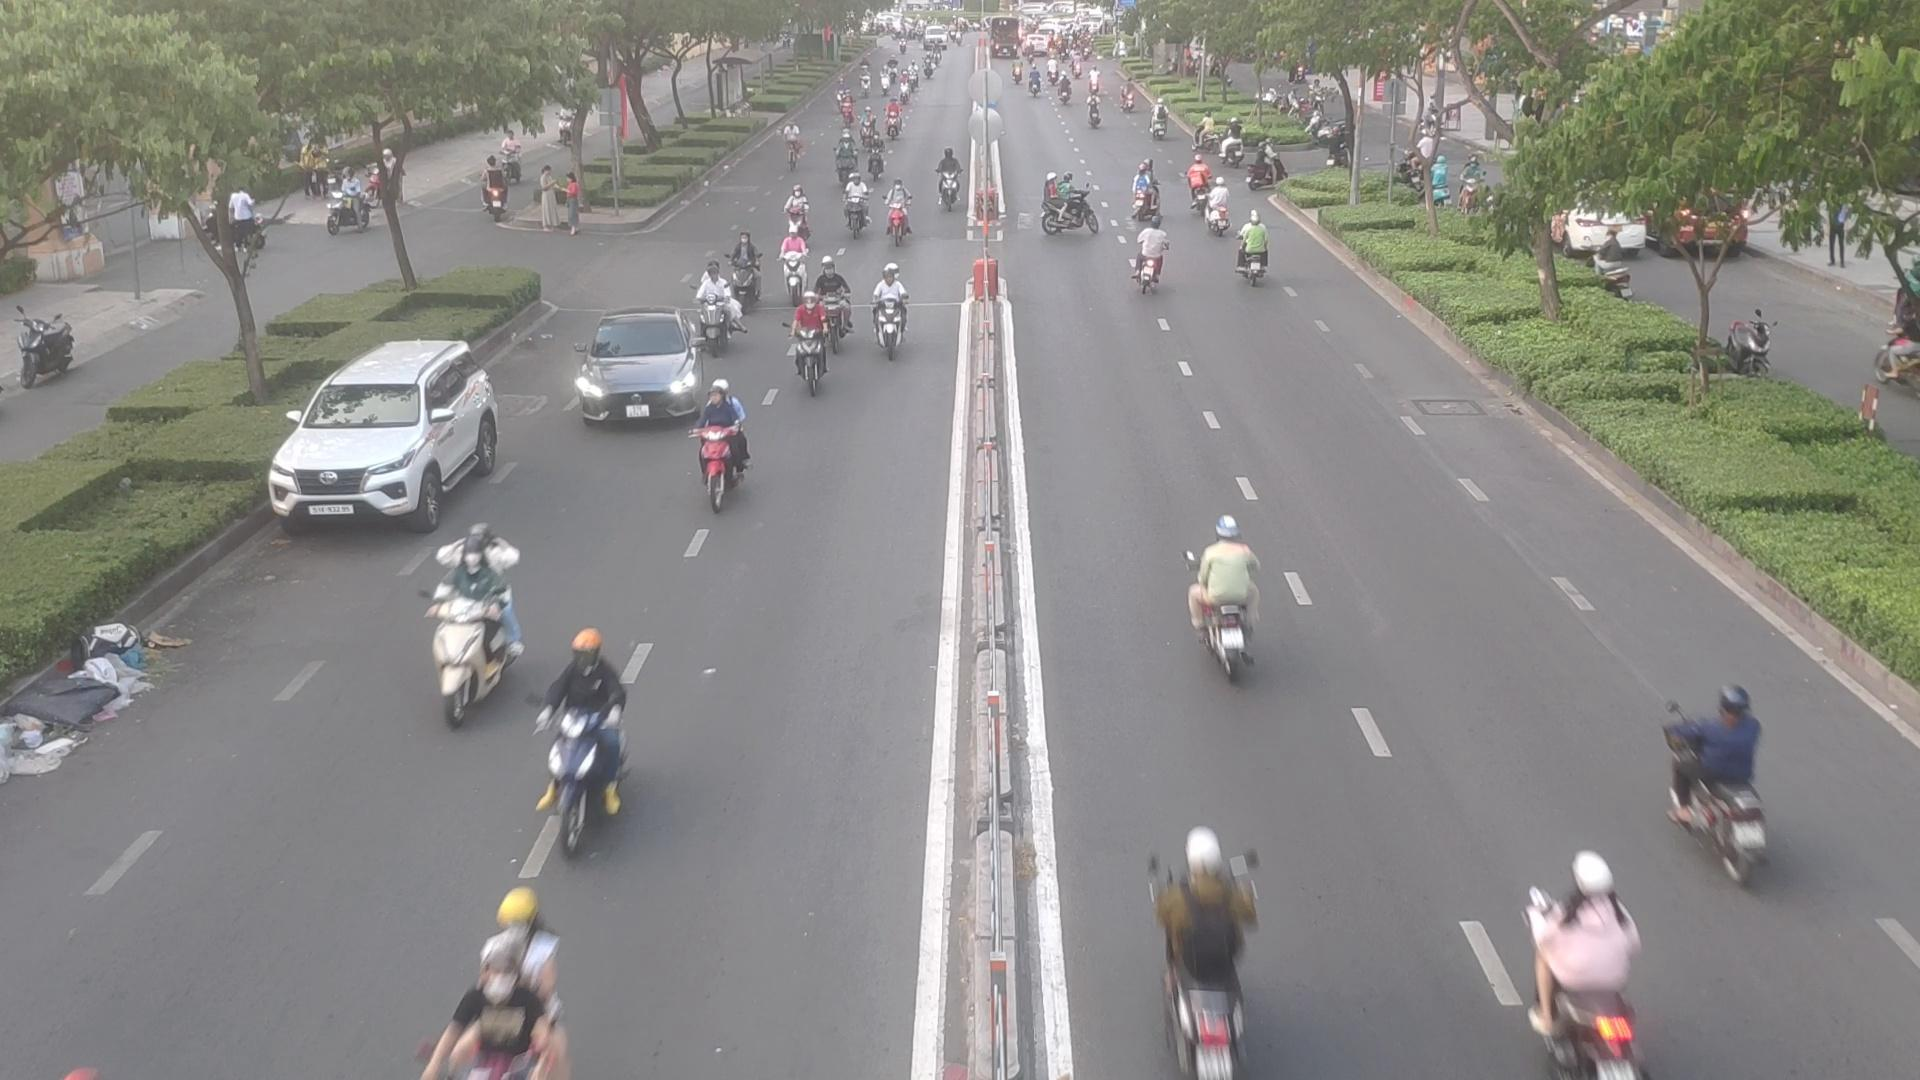car: (276, 342, 514, 531)
motorbike: (1509, 843, 1644, 1077), (1133, 831, 1261, 1080), (525, 630, 644, 853), (1663, 682, 1774, 884), (400, 952, 568, 1080), (574, 314, 716, 429), (417, 593, 518, 728), (1185, 524, 1275, 671), (683, 381, 760, 506), (419, 526, 516, 618), (1038, 169, 1104, 241), (865, 270, 915, 360), (692, 273, 746, 349), (800, 261, 853, 338), (790, 295, 829, 396), (1233, 219, 1279, 286), (723, 235, 766, 305), (1129, 229, 1172, 291), (1133, 164, 1170, 219), (880, 185, 913, 247), (935, 148, 963, 214), (843, 174, 872, 233), (1203, 179, 1234, 233), (782, 231, 814, 284), (1188, 161, 1212, 216), (783, 186, 808, 237), (835, 129, 858, 181), (862, 131, 890, 171)
